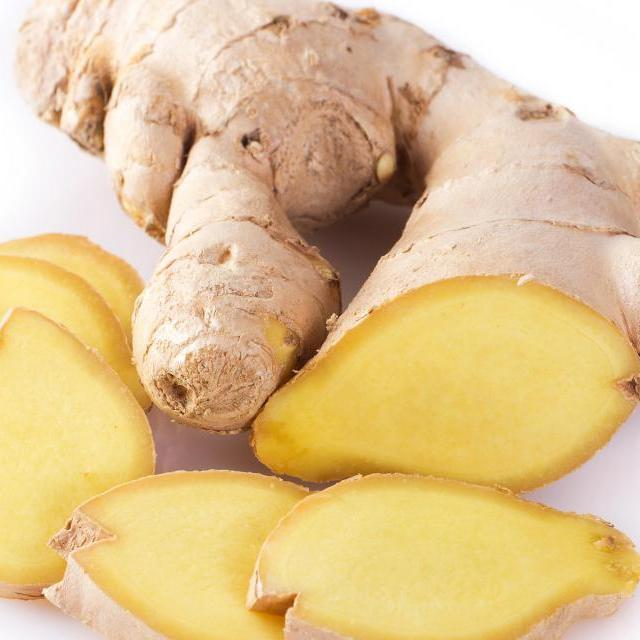ginger: (15, 0, 640, 472), (72, 480, 615, 640), (0, 309, 155, 598)
